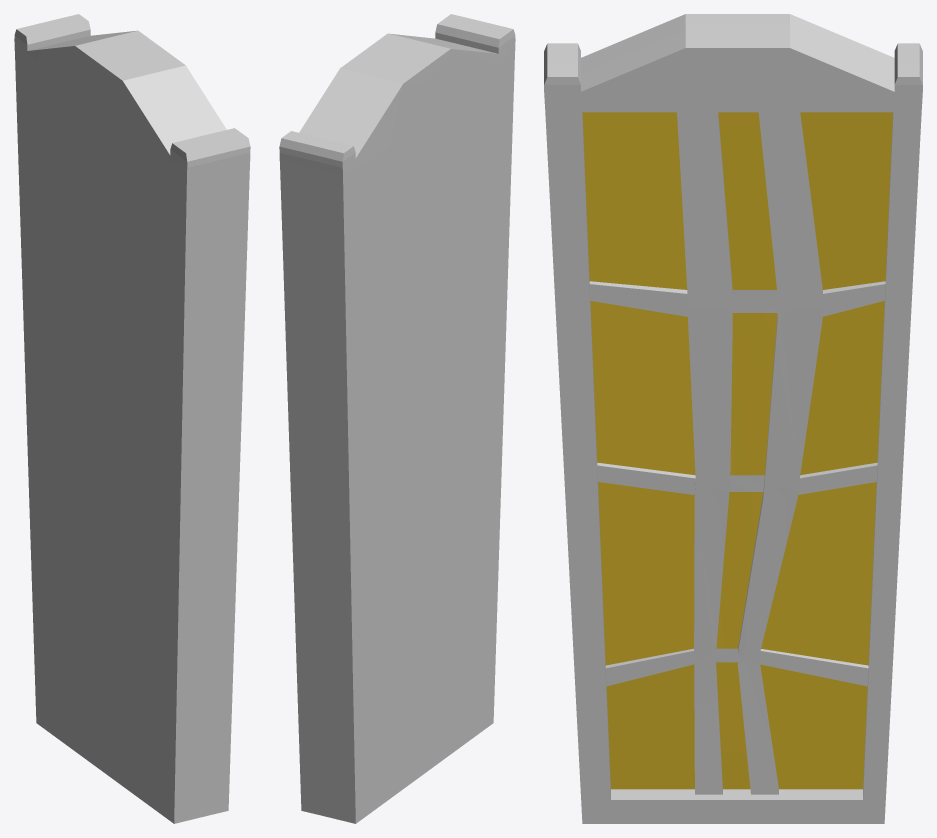
File: TallWindow.fbx
3 renders of one model, left to right at view 1: azimuth 30°, elevation 25°; view 2: azimuth 150°, elevation 25°; view 3: azimuth 270°, elevation 25°, orthographic. The views are drawn at different scales.
Visible parts, largest first — view 1: Cube; view 2: Cube; view 3: Cube.
Part boxes in pixels (x1,y1,x2,y2): Cube: (14,14,250,823); Cube: (279,14,515,823); Cube: (544,14,922,823).
Size of the model in its own units: 36.31 by 389 by 172.
